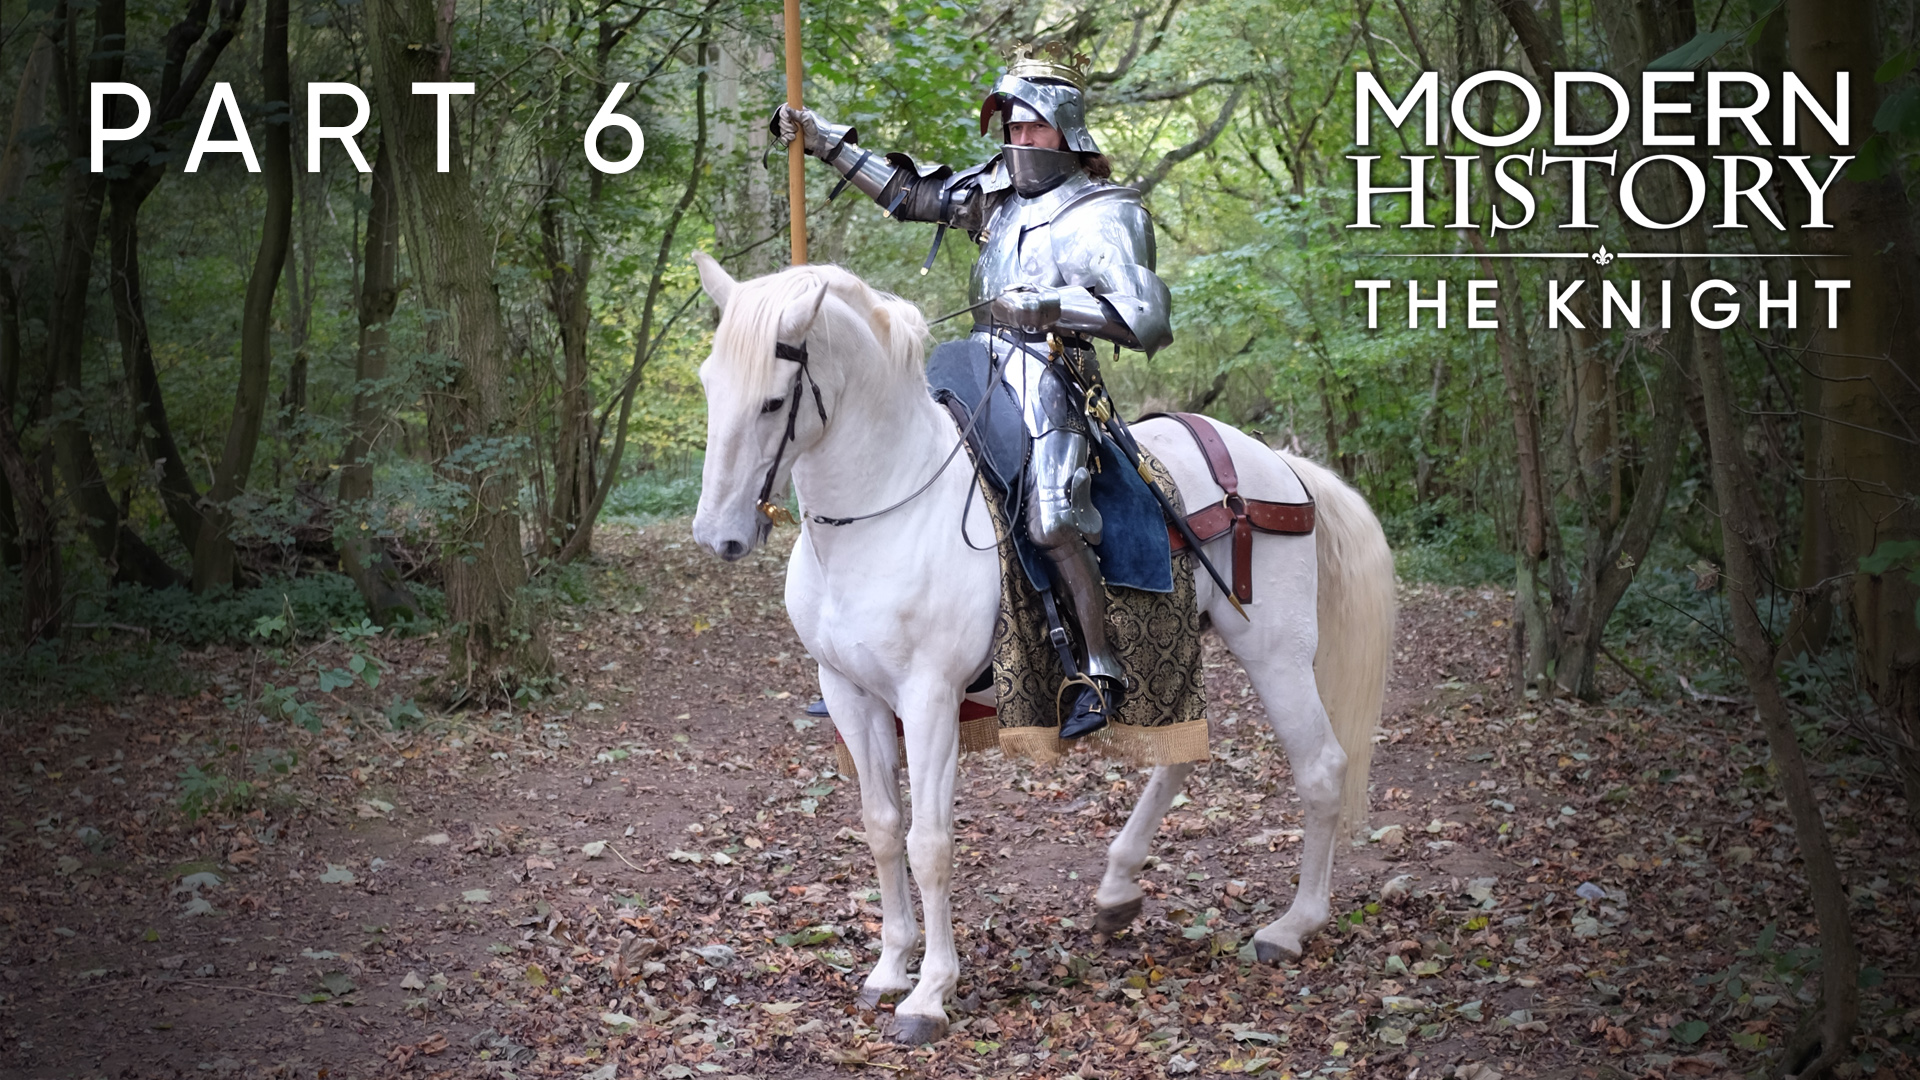Horse: (667, 261, 1377, 1013)
Person: (784, 61, 1227, 702)
